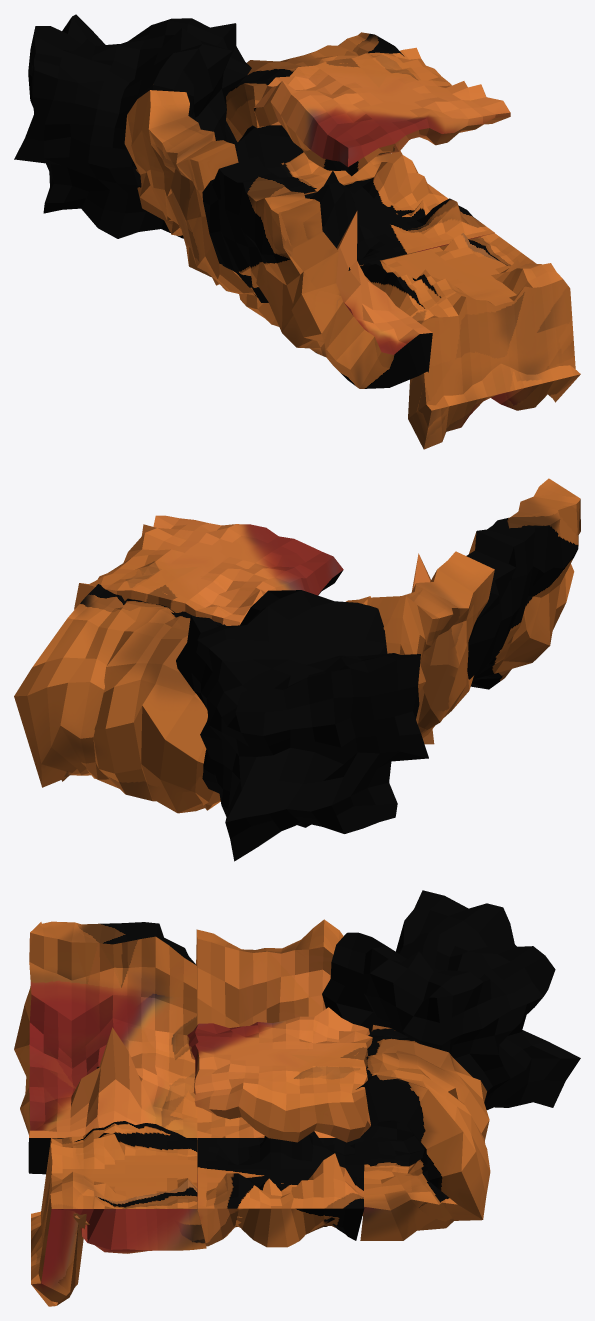
File: bill_bg_v2_test.fbx
The picture shows the model from 3 angles, top to bottom: view 1: azimuth 30°, elevation 25°; view 2: azimuth 150°, elevation 25°; view 3: azimuth 270°, elevation 25°; orthographic projection. The views are drawn at different scales.
Parts seen in each view (by area): view 1: BG_V2_Obj; view 2: BG_V2_Obj; view 3: BG_V2_Obj.
Part boxes in pixels (left/top/right/bottom): BG_V2_Obj: left=14, top=14, right=580, bottom=449; BG_V2_Obj: left=14, top=478, right=580, bottom=861; BG_V2_Obj: left=14, top=890, right=580, bottom=1306.
Bounding box in the file's own units: 510 × 365 × 677.
Materials: 1 (1 with a texture image).
